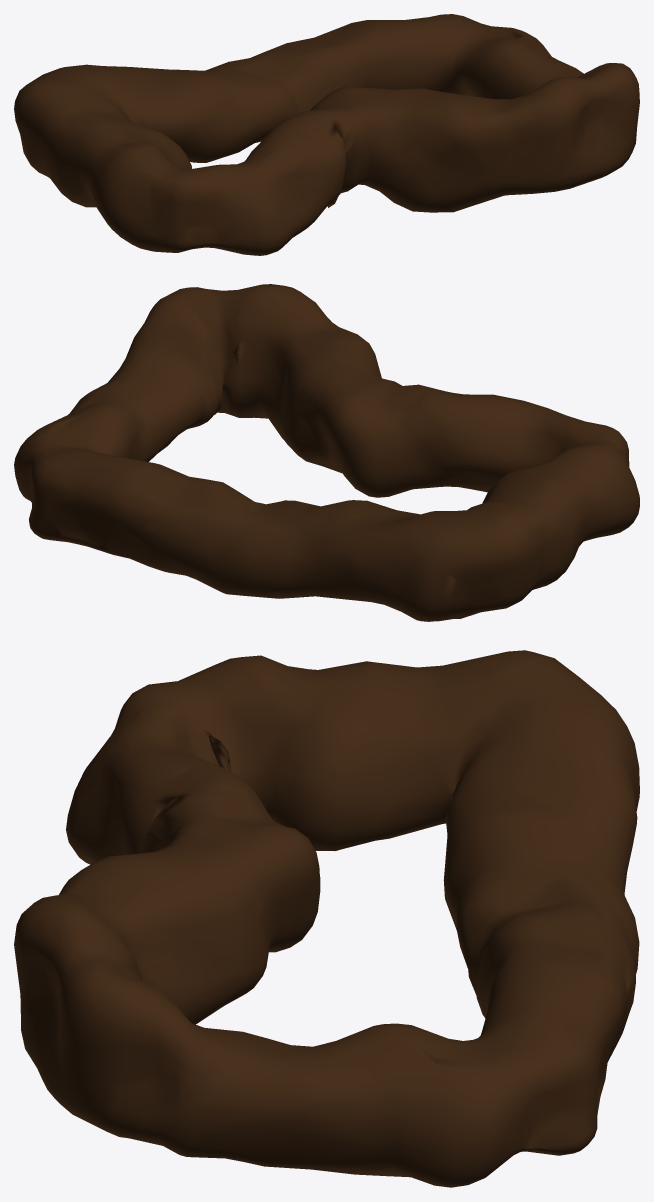
Rendered from TutorialTrack.fbx.
3 views of the same model, one above another, from view 1: azimuth 30°, elevation 25°; view 2: azimuth 150°, elevation 25°; view 3: azimuth 270°, elevation 25° (orthographic). The views are drawn at different scales.
Parts seen in each view (by area): view 1: Cube; view 2: Cube; view 3: Cube.
Part boxes in pixels (left/top/right/bottom): Cube: left=14, top=14, right=639, bottom=255; Cube: left=14, top=284, right=639, bottom=621; Cube: left=14, top=650, right=639, bottom=1187.
Bounding box in the file's own units: 26874 × 7072 × 18188.
